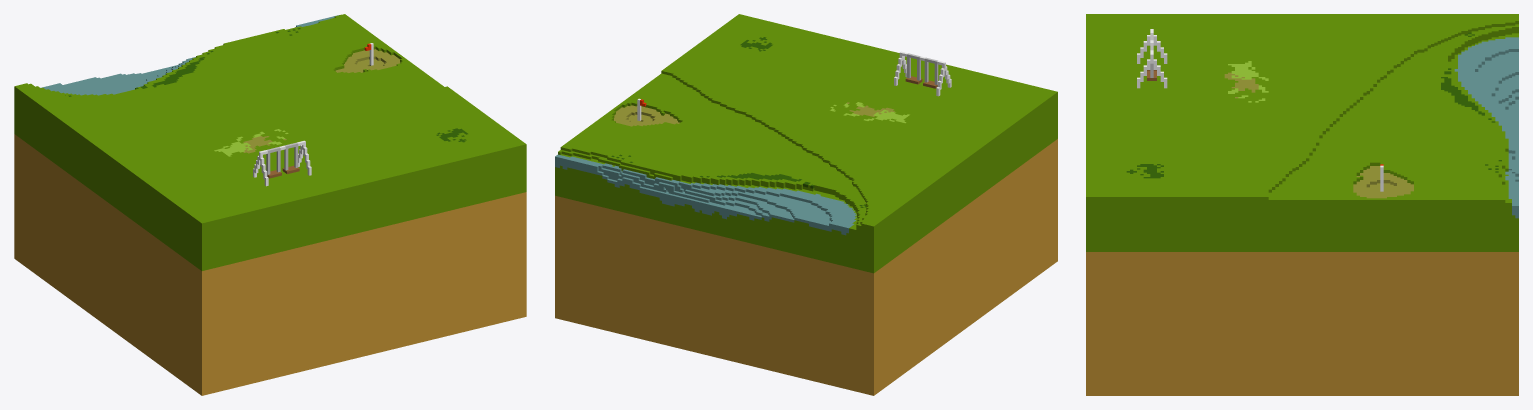
3 views of the same model, side by side, from view 1: azimuth 30°, elevation 25°; view 2: azimuth 150°, elevation 25°; view 3: azimuth 270°, elevation 25° (orthographic). The views are drawn at different scales.
Visible parts, largest first — view 1: 3D; view 2: 3D; view 3: 3D.
Boxes of the visible parts, x1,y1,x2,y2 form: 3D: (14,14,526,395); 3D: (555,14,1057,395); 3D: (1086,14,1518,395).
Bounding box in the file's own units: 12.8 × 7.6 × 12.8.
1 material, 1 textured.
